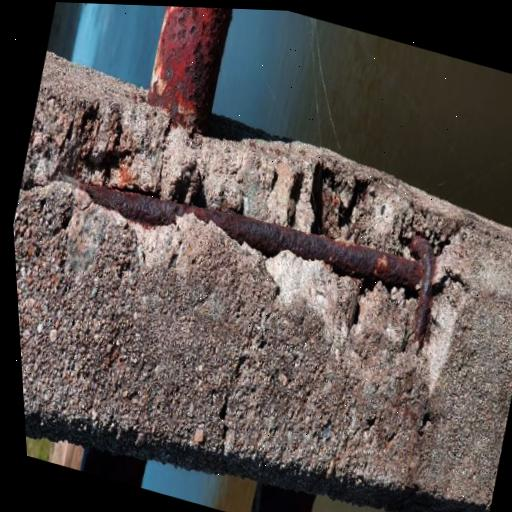exposed_rebar: (62, 176, 425, 291), (409, 235, 436, 347)
spalling: (21, 53, 479, 378)
